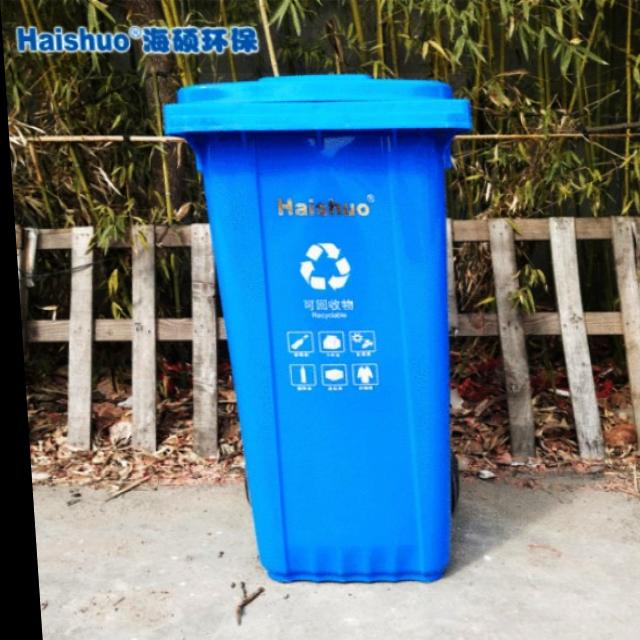garbage_bin: (159, 73, 492, 582)
